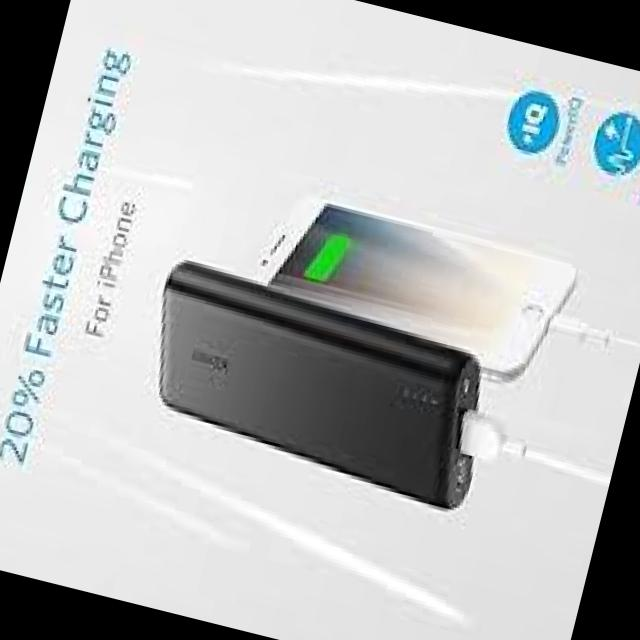portable-charger: (124, 249, 511, 517)
